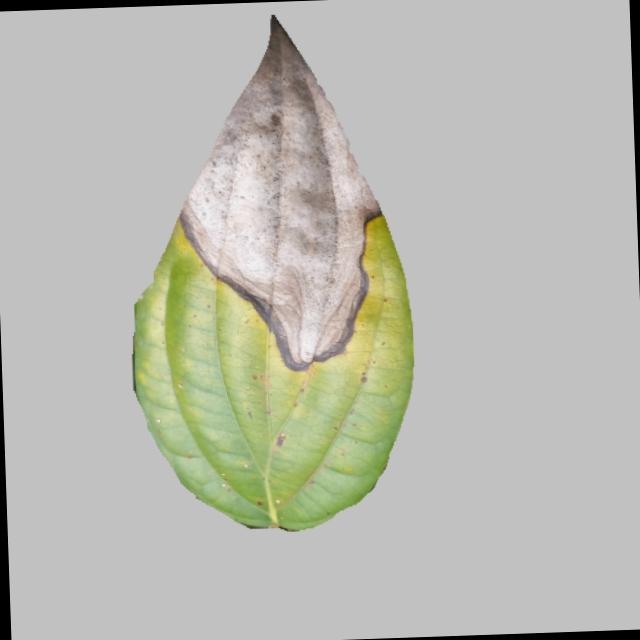leaf-blight: (123, 12, 420, 535)
